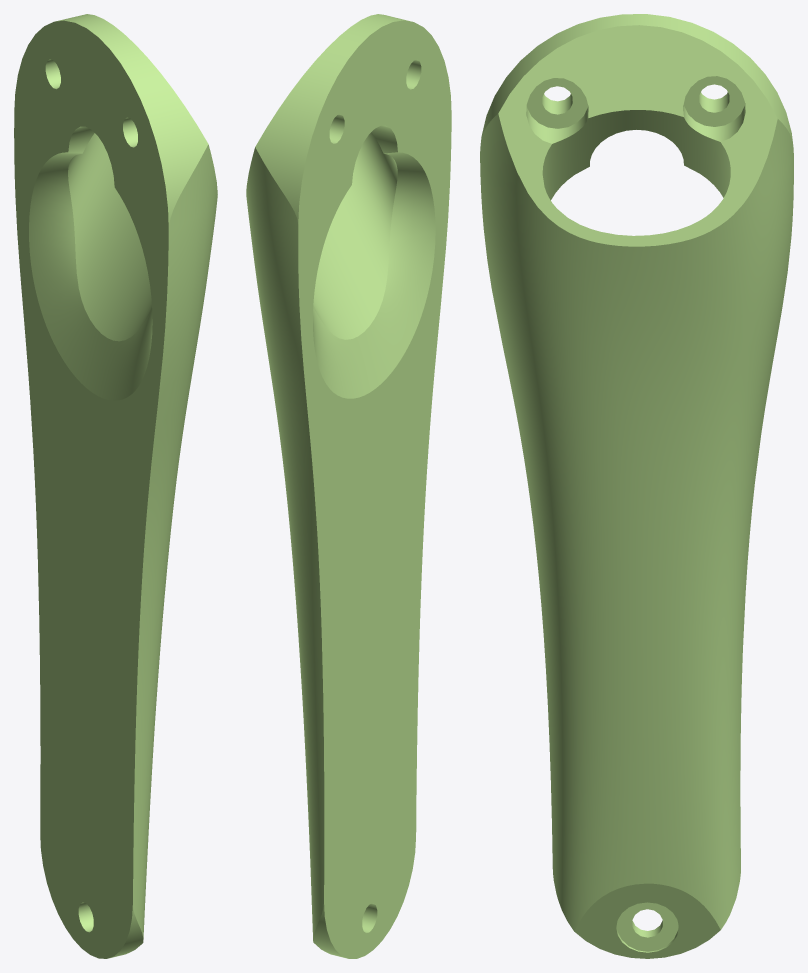
The model's file is Main_CaseOutside_5.dae.
3 views of the same model, side by side, from view 1: azimuth 30°, elevation 25°; view 2: azimuth 150°, elevation 25°; view 3: azimuth 270°, elevation 25° (orthographic). The views are drawn at different scales.
Visible parts, largest first — view 1: Main_CaseOutside_5; view 2: Main_CaseOutside_5; view 3: Main_CaseOutside_5.
Part boxes in pixels (box(x1,y1,x2,y2)): Main_CaseOutside_5: box(14, 14, 217, 958); Main_CaseOutside_5: box(246, 14, 451, 958); Main_CaseOutside_5: box(480, 14, 793, 958).
Size of the model in its own units: 0.00665 by 0.02 by 0.066.
